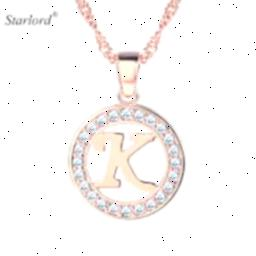k: (88, 130, 160, 192)
s: (4, 14, 12, 28)
